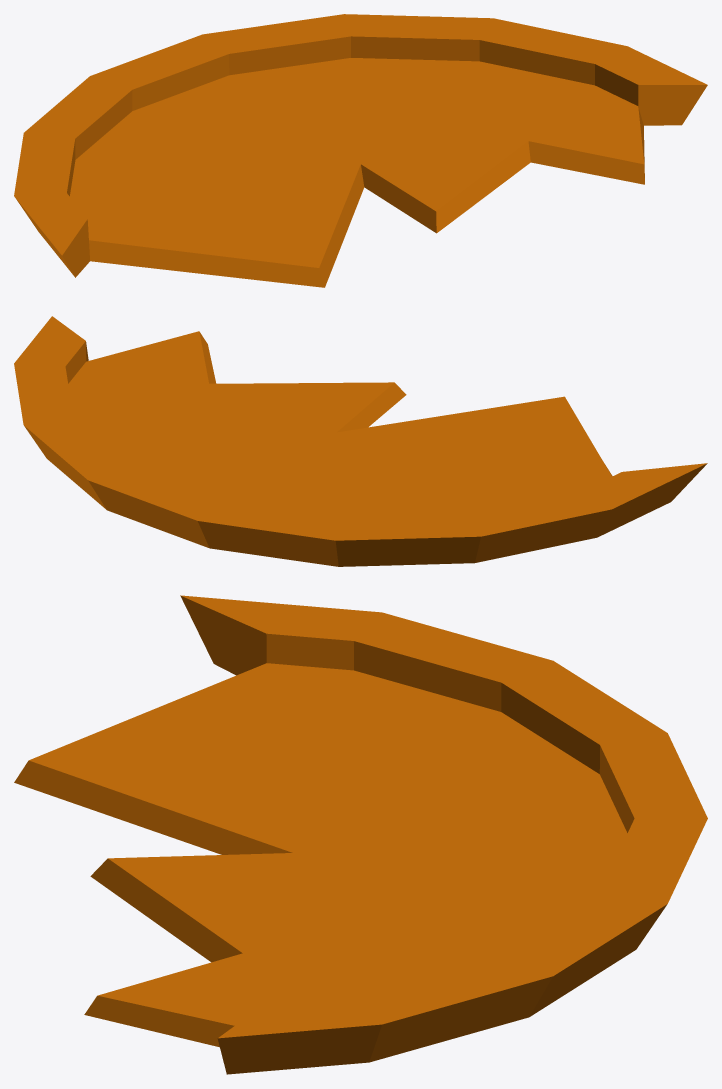
The model's file is LudumDarePlateBrokenS2.fbx.
The picture shows the model from 3 angles, top to bottom: view 1: azimuth 30°, elevation 25°; view 2: azimuth 150°, elevation 25°; view 3: azimuth 270°, elevation 25°; orthographic projection. The views are drawn at different scales.
Visible parts, largest first — view 1: Plate; view 2: Plate; view 3: Plate.
Boxes of the visible parts, x1,y1,x2,y2 form: Plate: (14, 14, 707, 287); Plate: (14, 316, 707, 566); Plate: (14, 595, 707, 1074).
Bounding box in the file's own units: 34.51 × 1.86 × 22.85.
